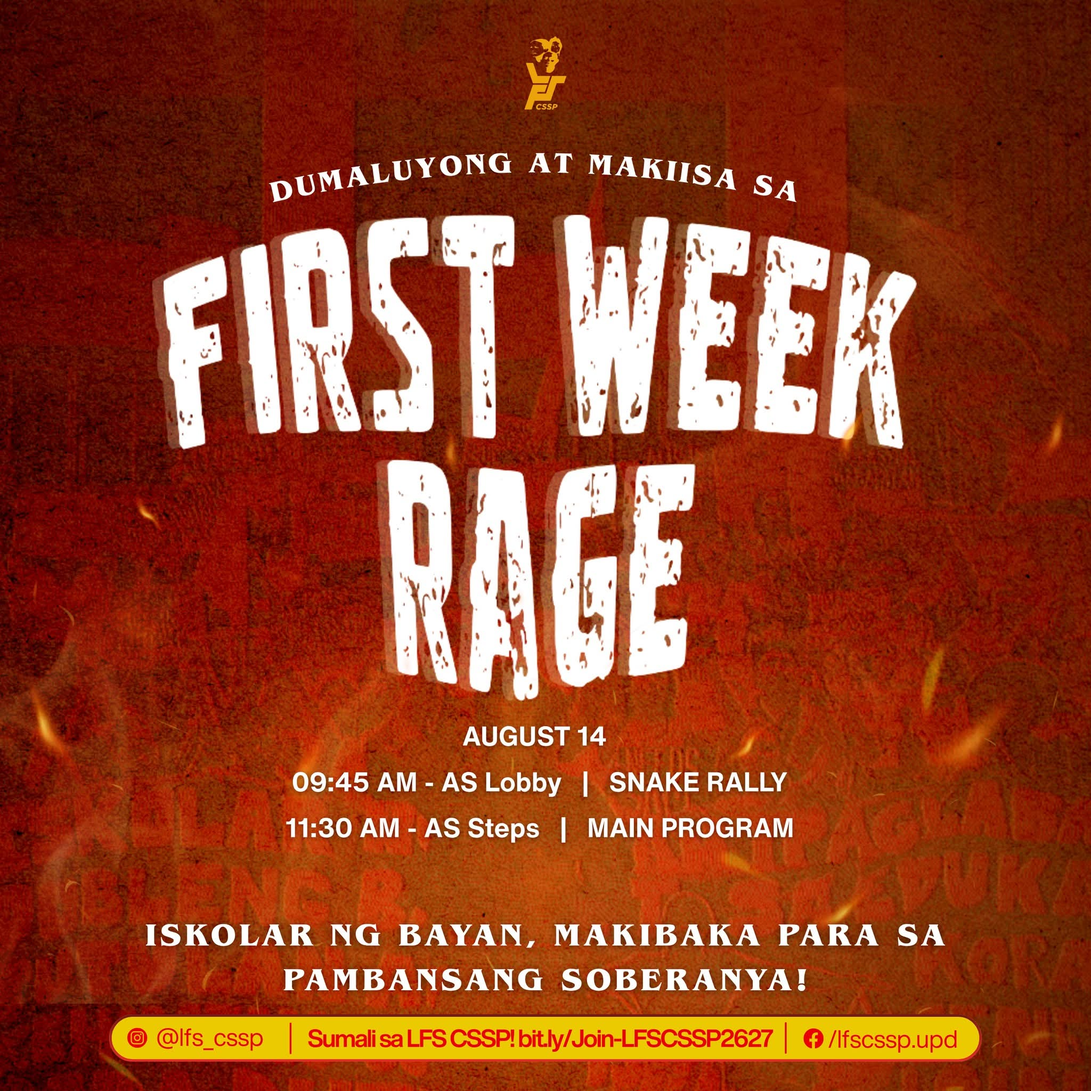embellishment: (800, 1024, 827, 1051), (124, 1023, 150, 1051)
logo: (511, 28, 581, 115)
text: (132, 907, 954, 999), (272, 716, 811, 856), (304, 1024, 779, 1053), (153, 1024, 272, 1054), (827, 1026, 965, 1050)
